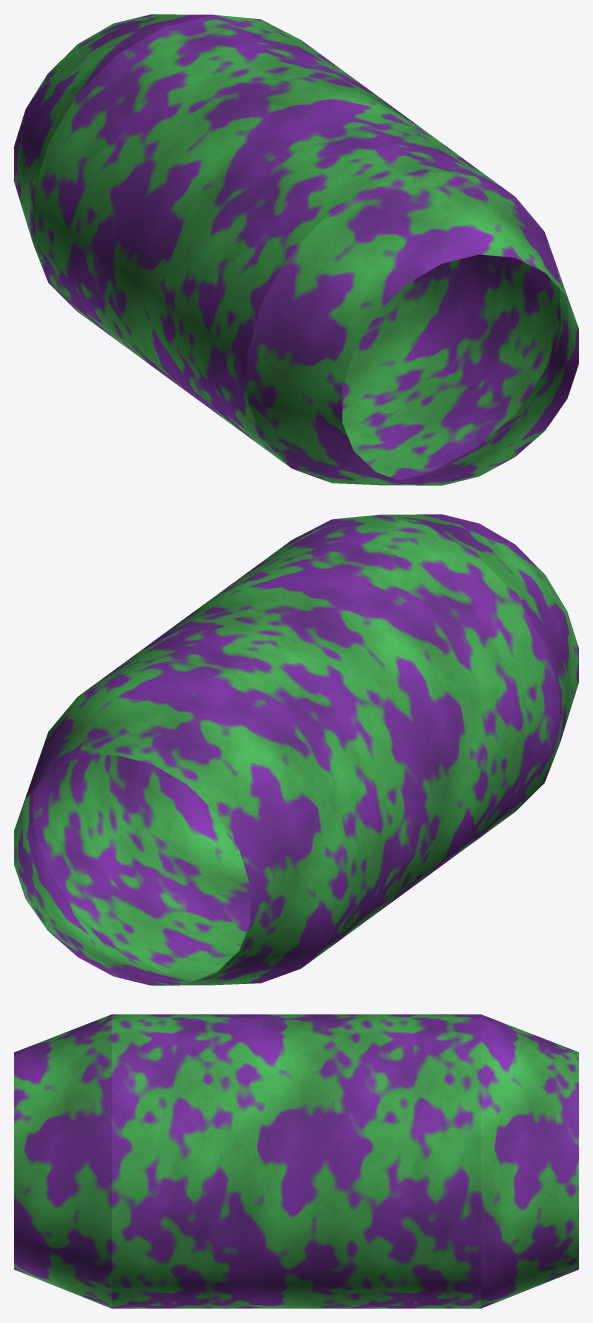
Rendered from bodyStraight.fbx.
3 renders of one model, top to bottom at view 1: azimuth 30°, elevation 25°; view 2: azimuth 150°, elevation 25°; view 3: azimuth 270°, elevation 25°, orthographic. The views are drawn at different scales.
Visible parts, largest first — view 1: bodyStraight; view 2: bodyStraight; view 3: bodyStraight.
Part boxes in pixels (<box>): bodyStraight: <box>14,14,578,485</box>; bodyStraight: <box>14,514,578,985</box>; bodyStraight: <box>14,1014,578,1308</box>.
Bounding box in the file's own units: 1.28 × 1.18 × 2.33.
1 material, 1 textured.
